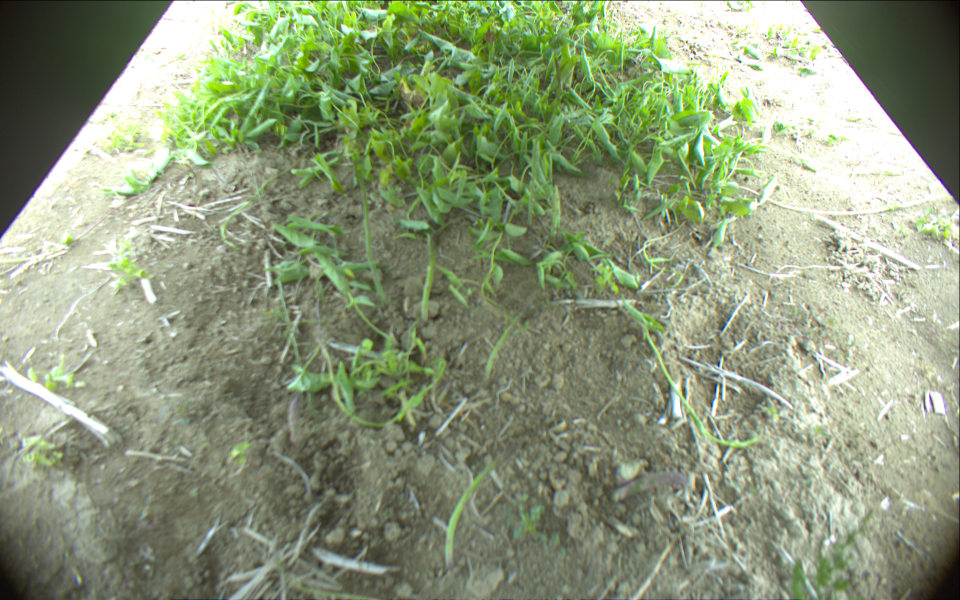aspa: (352, 155, 385, 296), (421, 229, 438, 317)
